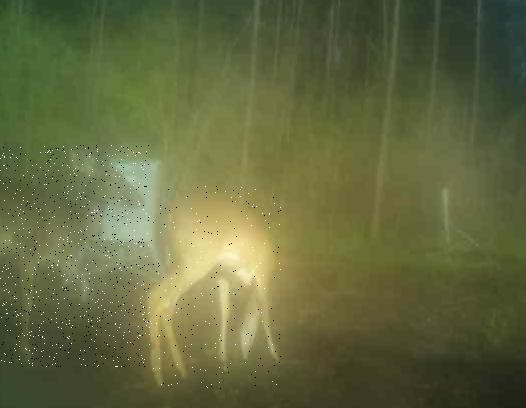Deer: (0, 145, 150, 367), (145, 186, 283, 389)
